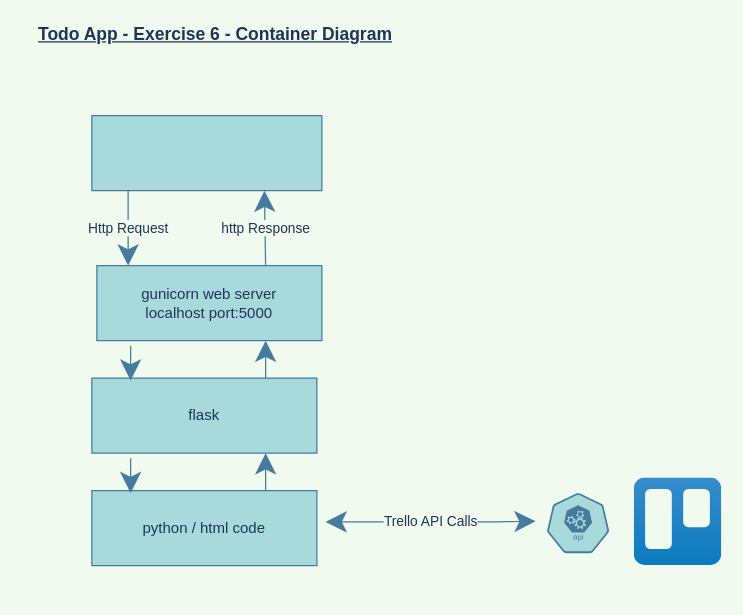
Image size: 743x615. Some labels were removed from this diagram. The centre of each missing label's shape, as x and y in pixels:
Browser: the point at 206,152
Trello: the point at 677,521
